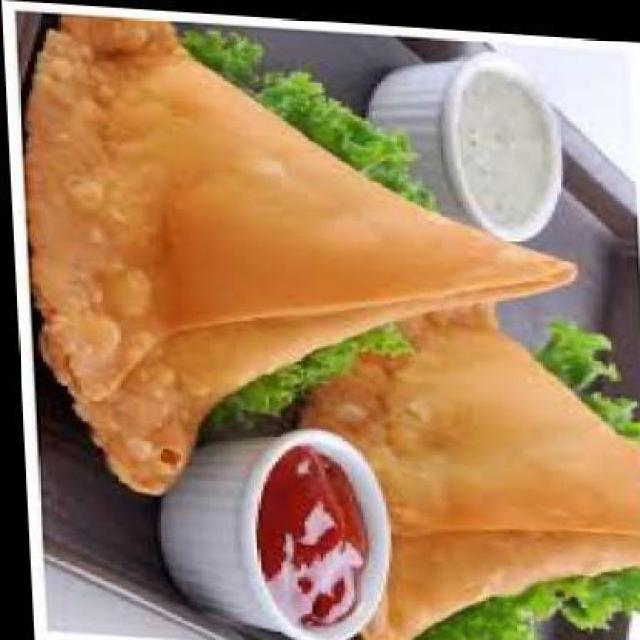samosa: (15, 11, 583, 514), (287, 283, 640, 640)
